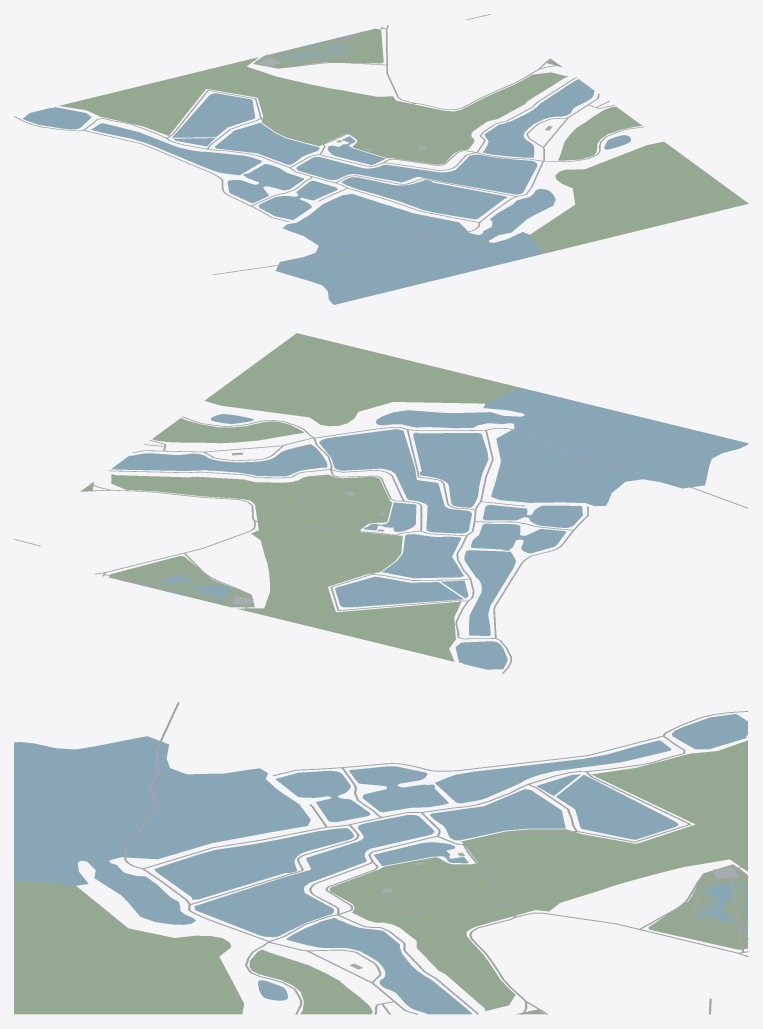
The model's file is -7_9-known-coarse.glb.
3 views of the same model, one above another, from view 1: azimuth 30°, elevation 25°; view 2: azimuth 150°, elevation 25°; view 3: azimuth 270°, elevation 25° (orthographic). The views are drawn at different scales.
Size of the model in its own units: 1003 by 0.15 by 996.
